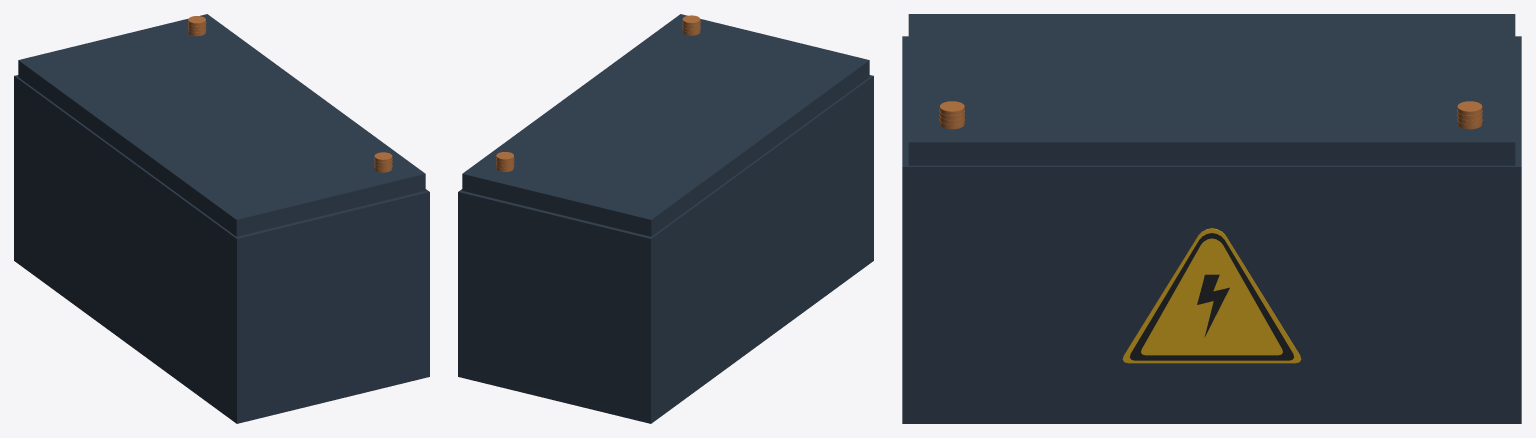
File: power_unit.fbx
The picture shows the model from 3 angles, left to right: view 1: azimuth 30°, elevation 25°; view 2: azimuth 150°, elevation 25°; view 3: azimuth 270°, elevation 25°; orthographic projection. The views are drawn at different scales.
Parts seen in each view (by area): view 1: Cube; view 2: Cube; view 3: Cube, Cube.001, Cube.002, Curve, Cylinder, Cylinder.001.
Part boxes in pixels (left/top/right/bottom): Cube: left=14, top=14, right=429, bottom=423; Cube: left=458, top=14, right=873, bottom=423; Cube: left=902, top=14, right=1521, bottom=423; Cube.001: left=1122, top=228, right=1301, bottom=363; Cube.002: left=1130, top=233, right=1293, bottom=360; Curve: left=1197, top=274, right=1229, bottom=337; Cylinder: left=1457, top=101, right=1482, bottom=129; Cylinder.001: left=939, top=101, right=964, bottom=129.
Size of the model in its own units: 101 by 106 by 200.
